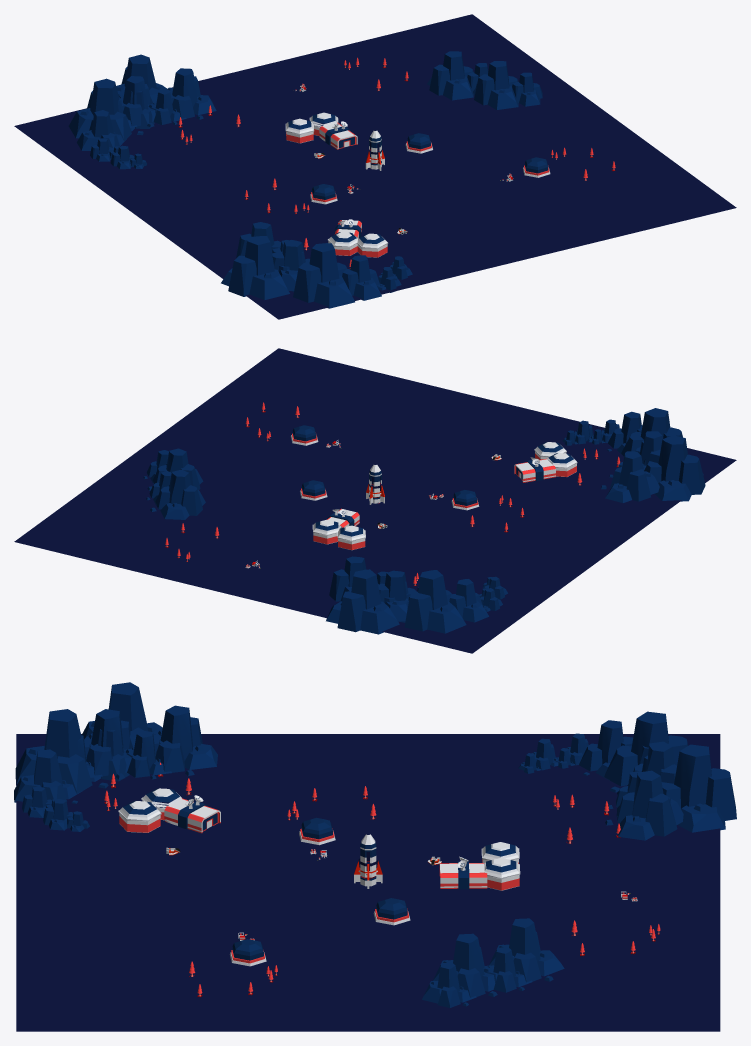
The model's file is world1.glb.
The picture shows the model from 3 angles, top to bottom: view 1: azimuth 30°, elevation 25°; view 2: azimuth 150°, elevation 25°; view 3: azimuth 270°, elevation 25°; orthographic projection. The views are drawn at different scales.
Parts seen in each view (by area): view 1: Plane, rock-b.006, rock-b.001, rock-b.004, gate.002, gate, rocket_baseA; view 2: Plane, rock-b.001, rock-b.006, rock-b.004, gate, gate.002, rocket_baseA; view 3: Plane, rock-b.006, rock-b.001, rock-b.004, gate, gate.002, rocket_baseA, hangar_roundGlass, hangar_roundGlass.002, hangar_roundGlass.001.
Boxes of the visible parts, bbox=[...] form: Plane: bbox=[14, 14, 736, 319]; rock-b.006: bbox=[221, 222, 412, 308]; rock-b.001: bbox=[68, 54, 216, 169]; rock-b.004: bbox=[427, 51, 542, 109]; gate.002: bbox=[285, 112, 357, 149]; gate: bbox=[327, 219, 388, 257]; rocket_baseA: bbox=[365, 129, 384, 170]; Plane: bbox=[14, 348, 736, 653]; rock-b.001: bbox=[326, 556, 507, 634]; rock-b.006: bbox=[562, 408, 705, 502]; rock-b.004: bbox=[143, 448, 205, 519]; gate: bbox=[514, 442, 577, 482]; gate.002: bbox=[312, 508, 365, 550]; rocket_baseA: bbox=[366, 463, 384, 504]; Plane: bbox=[16, 734, 720, 1031]; rock-b.006: bbox=[14, 682, 217, 831]; rock-b.001: bbox=[518, 711, 736, 840]; rock-b.004: bbox=[422, 918, 564, 1007]; gate: bbox=[118, 788, 220, 833]; gate.002: bbox=[439, 842, 520, 890]; rocket_baseA: bbox=[354, 833, 382, 888]; hangar_roundGlass: bbox=[229, 939, 266, 966]; hangar_roundGlass.002: bbox=[299, 817, 335, 845]; hangar_roundGlass.001: bbox=[373, 898, 410, 925].
Bounding box in the file's own units: 474 × 47 × 479.
